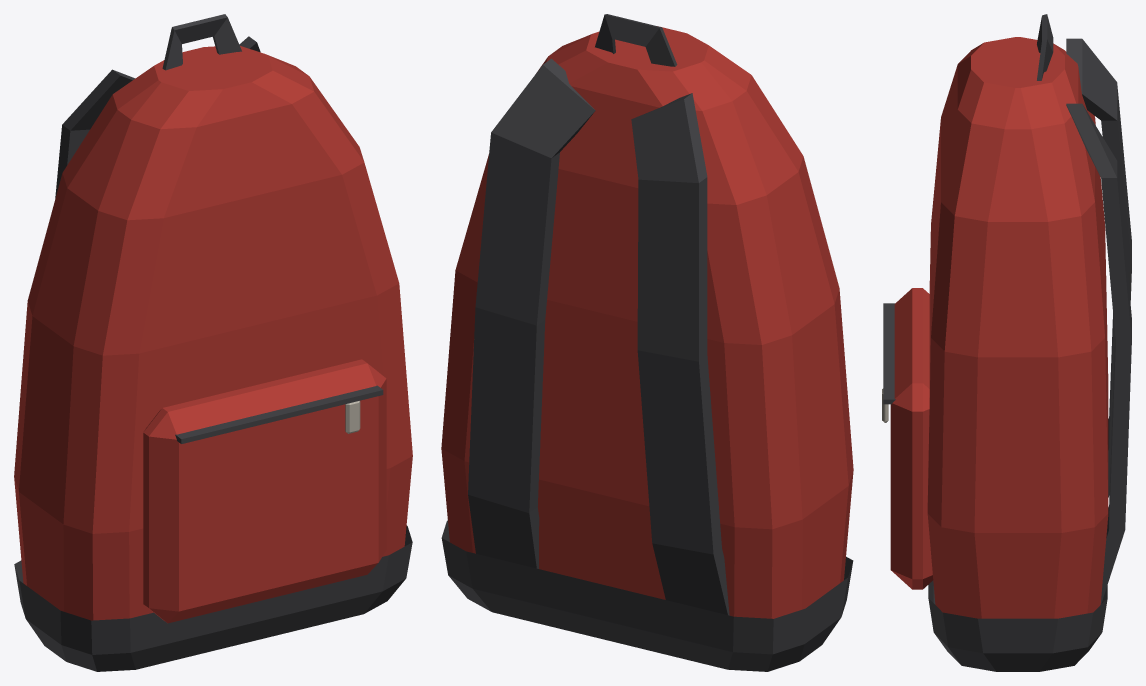
Rendered from item-daypack.glb.
3 views of the same model, side by side, from view 1: azimuth 30°, elevation 25°; view 2: azimuth 150°, elevation 25°; view 3: azimuth 270°, elevation 25° (orthographic). The views are drawn at different scales.
Visible parts, largest first — view 1: daypack; view 2: daypack; view 3: daypack.
Boxes of the visible parts, x1,y1,x2,y2 form: daypack: [14, 14, 412, 671]; daypack: [441, 14, 853, 671]; daypack: [882, 14, 1131, 671].
Bounding box in the file's own units: 0.292 × 0.4695 × 0.1865.
